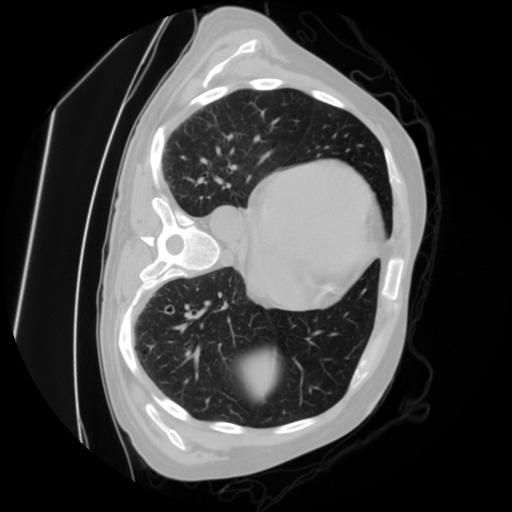nodule: (161, 303, 180, 322)
